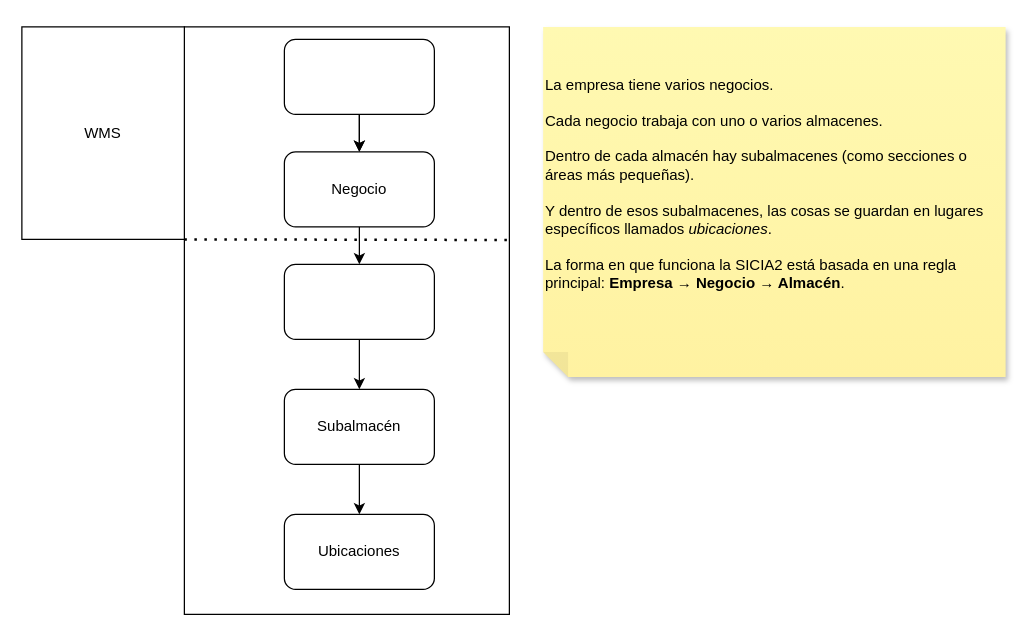
Some shapes in this 1035 by 636 pixel diagram are drawn without their labels. The centre of each missing label's shape, as x and y in pixels:
"Almacén" belongs at [358,301].
"Empresa" belongs at [358,76].
